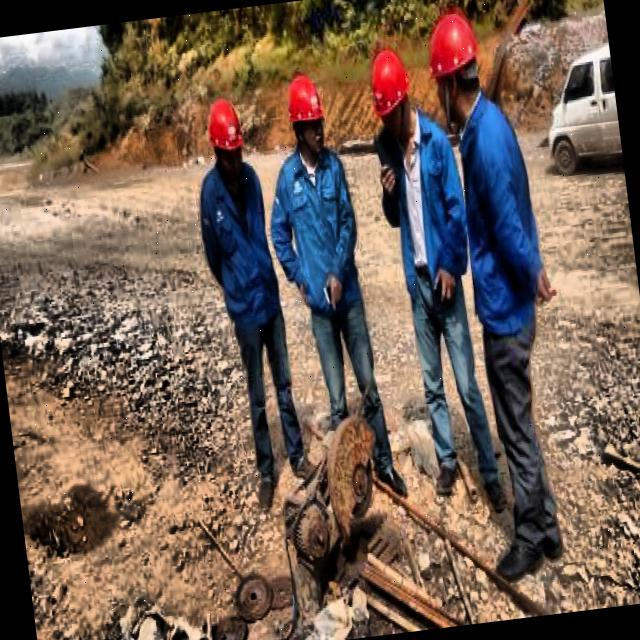helmet: (422, 9, 488, 126), (362, 41, 418, 144), (282, 70, 332, 162), (202, 91, 249, 180)
